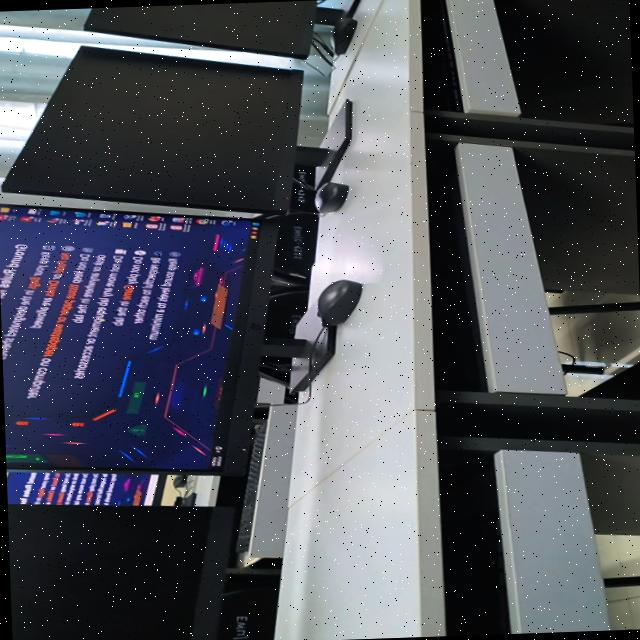Monitor: (0, 204, 258, 470), (2, 46, 301, 214), (6, 504, 233, 640), (84, 0, 316, 58), (5, 471, 177, 506)
Mouse: (316, 279, 360, 327), (326, 16, 355, 55), (313, 182, 347, 213), (315, 8, 322, 22)
